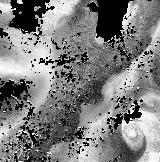CE: (120, 121, 145, 147)
